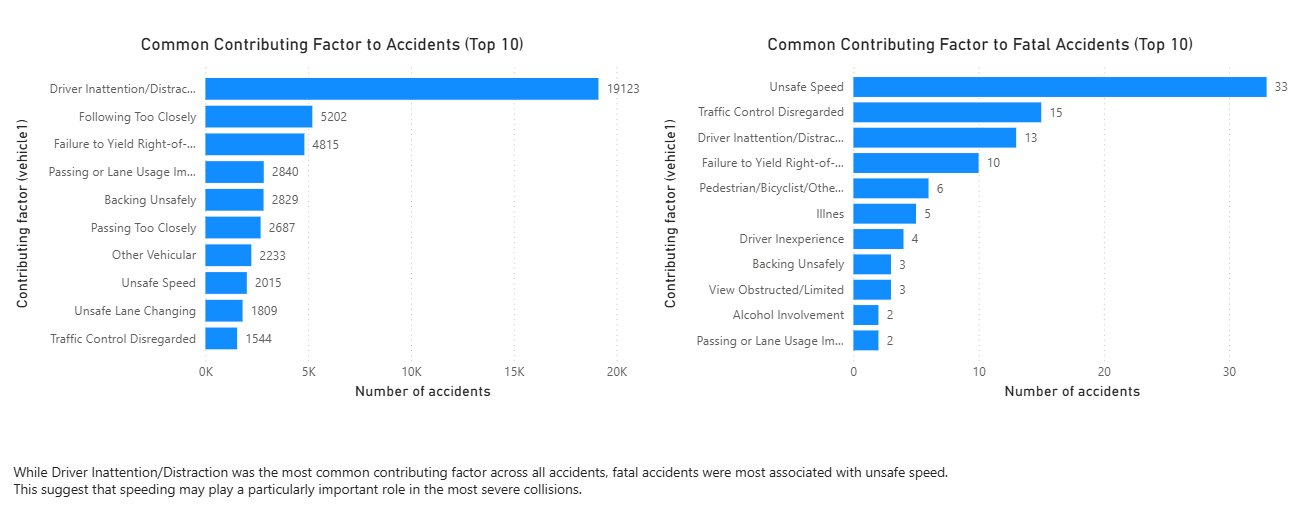

The dashboard page shown, as its layout file describes it:
{"tool":"powerbi","page":{"name":"REQ 4","canvas":[1280,720],"ordinal":3},"visuals":[{"type":"clusteredBarChart","title":"Common Contributing Factor to Accidents (Top 10)","fields":{"Category":["vw_contributing_factors.contributing_factor"],"Y":["Sum(vw_contributing_factors.total_accidents)"]},"box":[9.7,40.9,630.3,359.9],"z":0},{"type":"clusteredBarChart","title":"Common Contributing Factor to Fatal Accidents (Top 10)","fields":{"Category":["vw_fatal_contributing_fatal_factors.contributing_factor"],"Y":["Sum(vw_fatal_contributing_fatal_factors.total_accidents)"]},"box":[640,40.9,630.3,359.9],"z":1},{"type":"textbox","box":[9.7,452.3,1260.5,84.6],"z":2}]}

Visuals, with their boxes on the page's 1280x720 design canvas (x1, y1, x2, y2). These are canvas units, not pixel positions in the 1308x517 screenshot, which may show the page scaled, cropped or inside an application window:
"Common Contributing Factor to Accidents (Top 10)" clusteredBarChart: (10, 41, 640, 401)
"Common Contributing Factor to Fatal Accidents (Top 10)" clusteredBarChart: (640, 41, 1270, 401)
textbox: (10, 452, 1270, 537)
